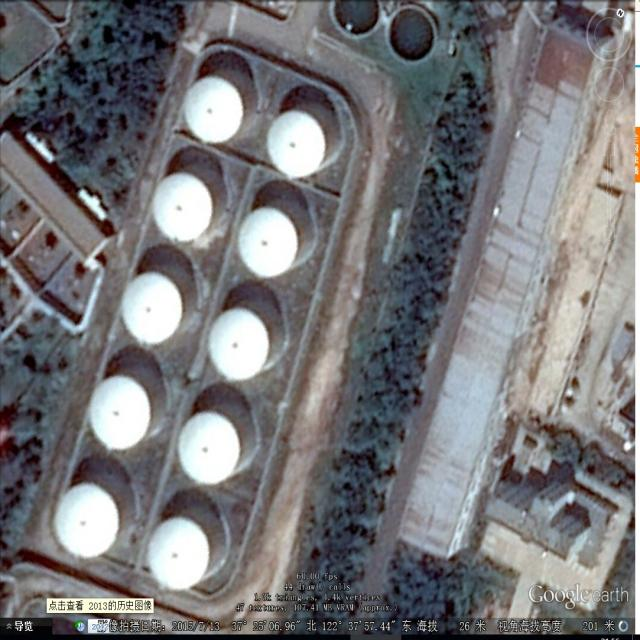oiltank: (47, 469, 139, 565), (85, 361, 172, 459), (205, 292, 292, 388), (144, 501, 233, 594), (176, 396, 260, 492), (119, 258, 199, 351), (234, 195, 318, 283), (265, 99, 347, 184), (150, 162, 229, 249), (181, 68, 261, 151)
